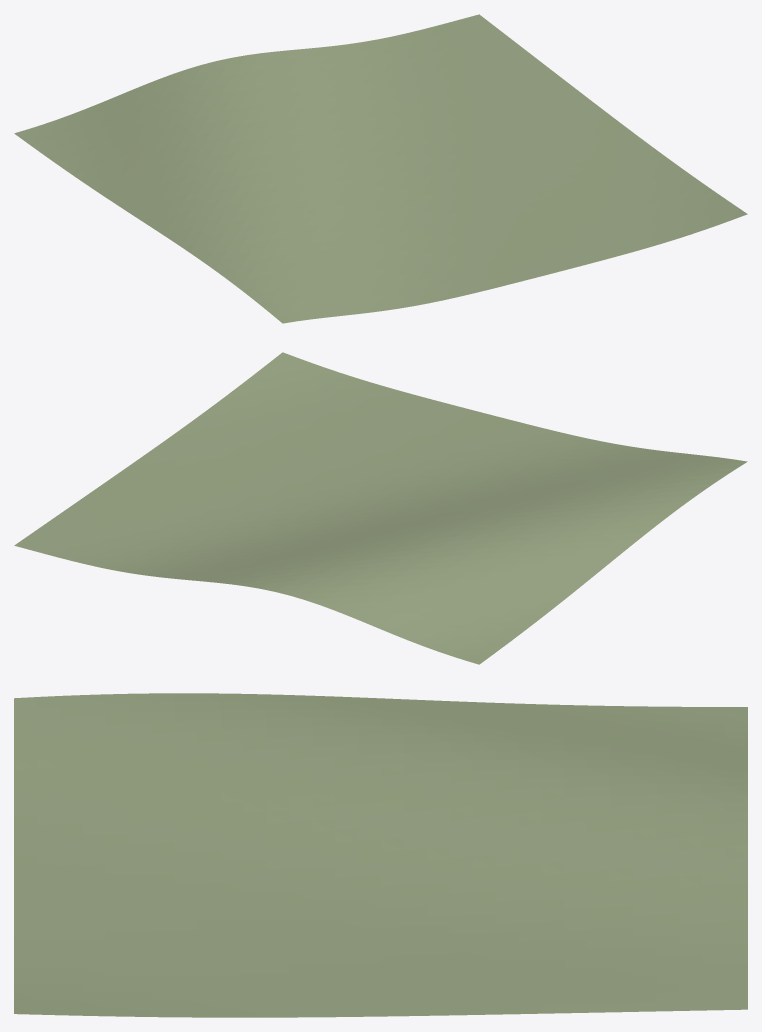
The model's file is desert-9-8.glb.
The picture shows the model from 3 angles, top to bottom: view 1: azimuth 30°, elevation 25°; view 2: azimuth 150°, elevation 25°; view 3: azimuth 270°, elevation 25°; orthographic projection. The views are drawn at different scales.
Visible parts, largest first — view 1: desert-9-8; view 2: desert-9-8; view 3: desert-9-8.
Boxes of the visible parts, box(x1,y1,x2,y2) form: desert-9-8: box(14, 14, 747, 323); desert-9-8: box(14, 352, 747, 664); desert-9-8: box(14, 693, 747, 1017).
Bounding box in the file's own units: 512 × 34.66 × 512.
